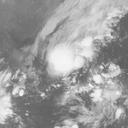cyclone: (45, 42, 77, 77)
